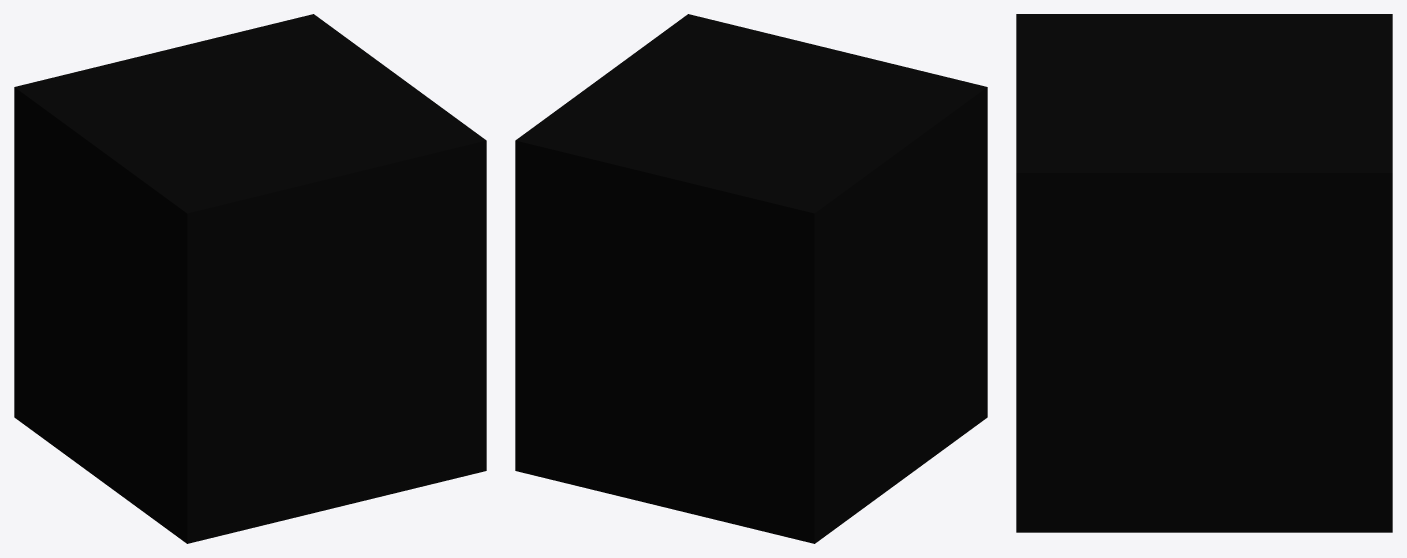
The model's file is warden.glb.
3 renders of one model, left to right at view 1: azimuth 30°, elevation 25°; view 2: azimuth 150°, elevation 25°; view 3: azimuth 270°, elevation 25°, orthographic. The views are drawn at different scales.
Bounding box in the file's own units: 256 × 338 × 256.
Materials: 2 (2 with a texture image).
